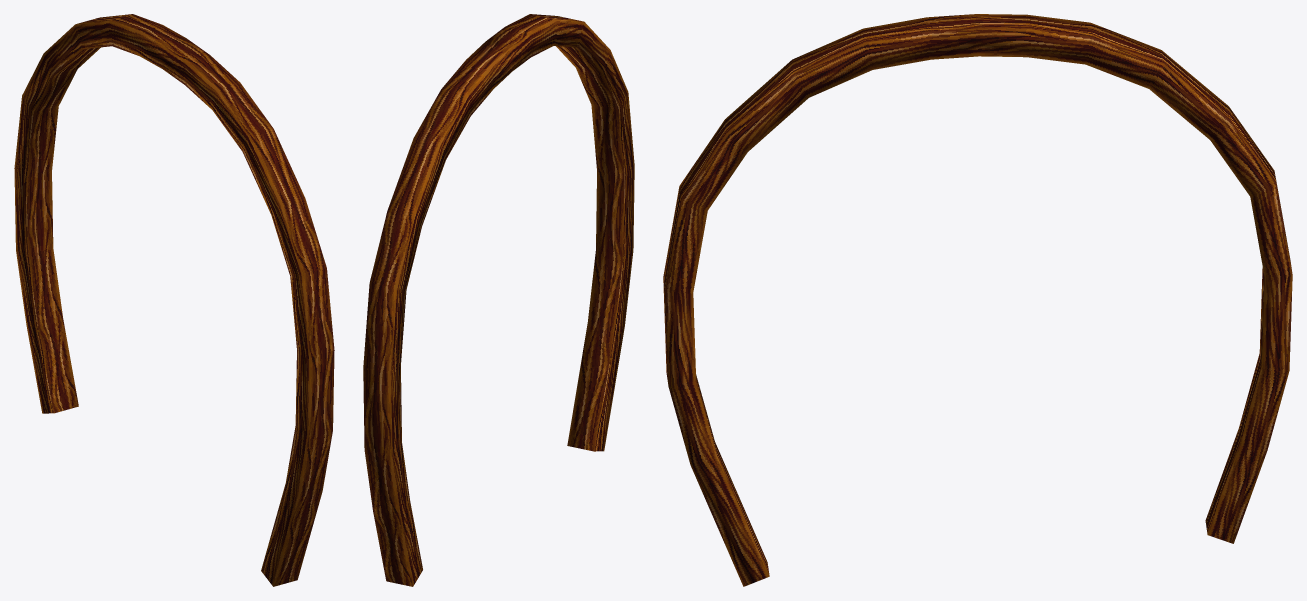
The model's file is EKH_BARRELROOM_PS_JA1_ARCHINNER.fbx.
The picture shows the model from 3 angles, left to right: view 1: azimuth 30°, elevation 25°; view 2: azimuth 150°, elevation 25°; view 3: azimuth 270°, elevation 25°; orthographic projection. The views are drawn at different scales.
Parts seen in each view (by area): view 1: EKH_BARRELROOM_PS_JA1_ARCHINNER; view 2: EKH_BARRELROOM_PS_JA1_ARCHINNER; view 3: EKH_BARRELROOM_PS_JA1_ARCHINNER.
Boxes of the visible parts, x1,y1,x2,y2 form: EKH_BARRELROOM_PS_JA1_ARCHINNER: (14,14,334,586); EKH_BARRELROOM_PS_JA1_ARCHINNER: (363,14,634,586); EKH_BARRELROOM_PS_JA1_ARCHINNER: (663,14,1292,586).
Size of the model in its own units: 2953 by 24819 by 25626.
Materials: 1 (1 with a texture image).
